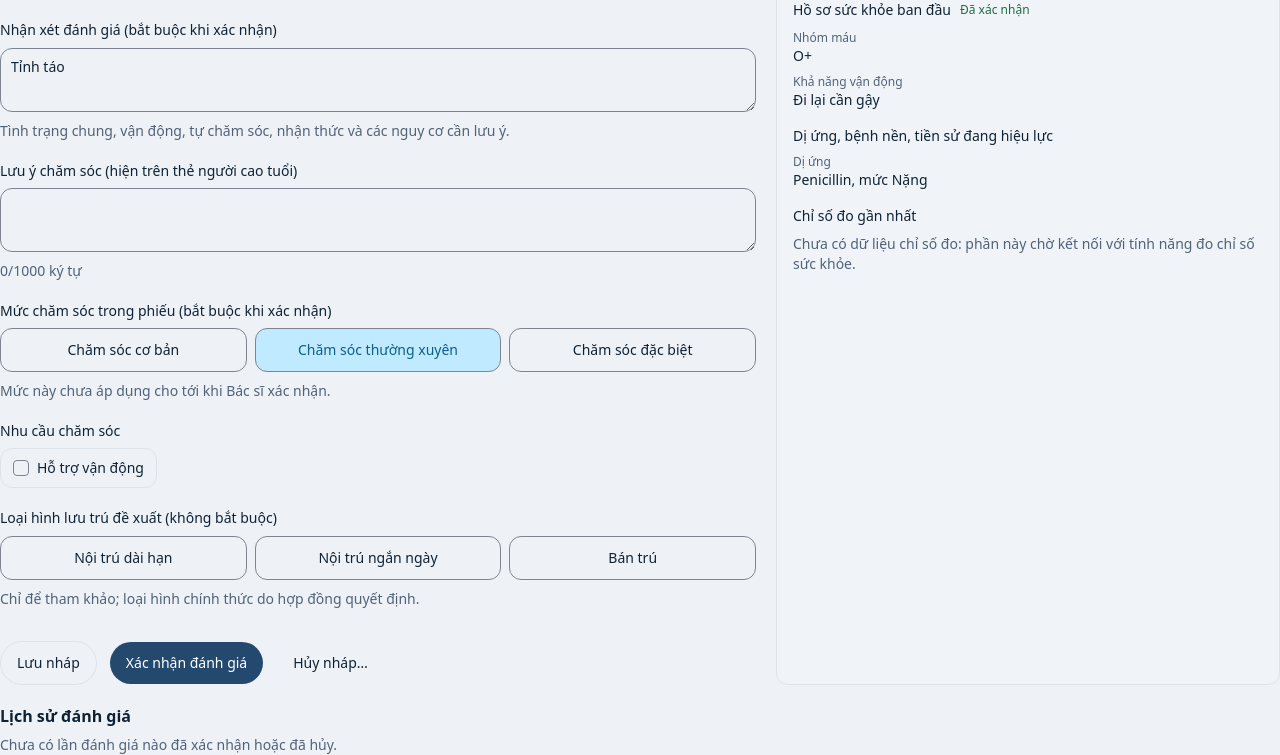
Test: AssessmentTab › Bác sĩ xác nhận hợp lệ: lưu nháp rồi xác nhận với ETag mới, hiện tác động
This screenshot has width=1280, height=755.
(page scrolled)
Click the button "Xác nhận đánh giá" at (186, 662), box top-left (109, 640), bottom-right (264, 684)
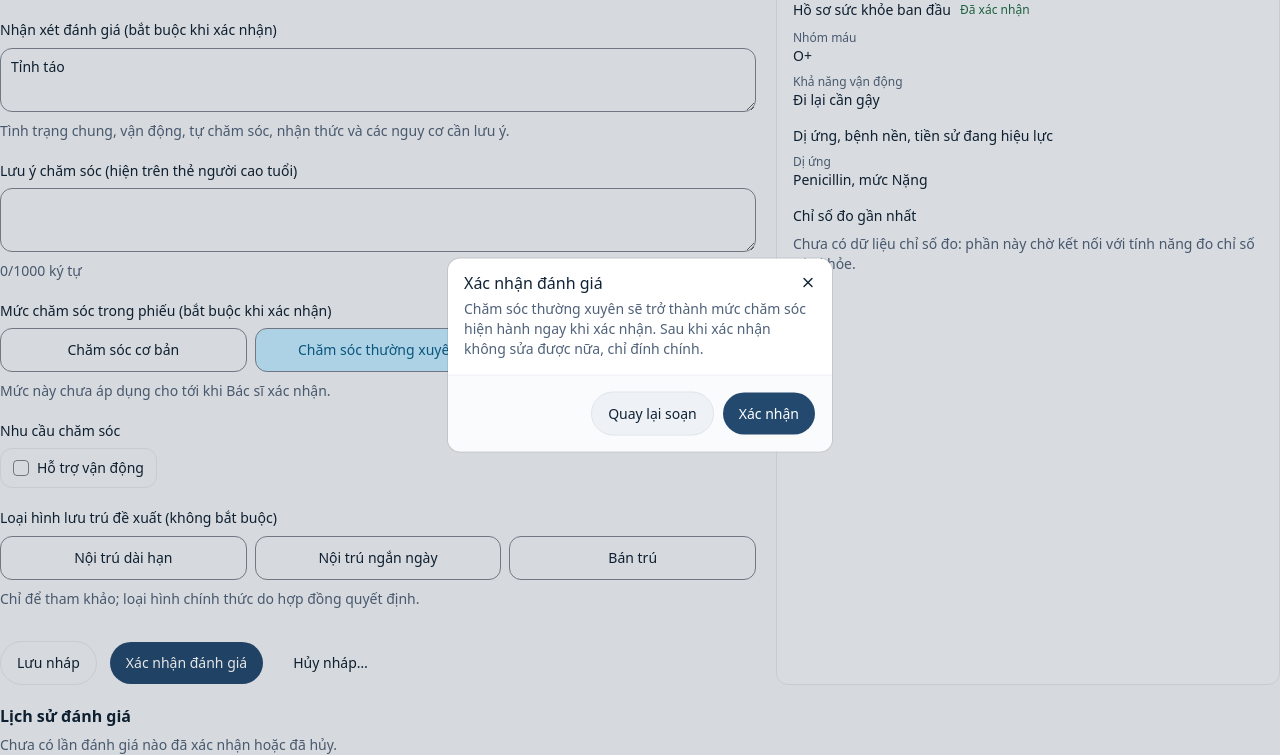
Click the button "Xác nhận" at (769, 414), box top-left (722, 392), bottom-right (816, 436)
(page scrolled)
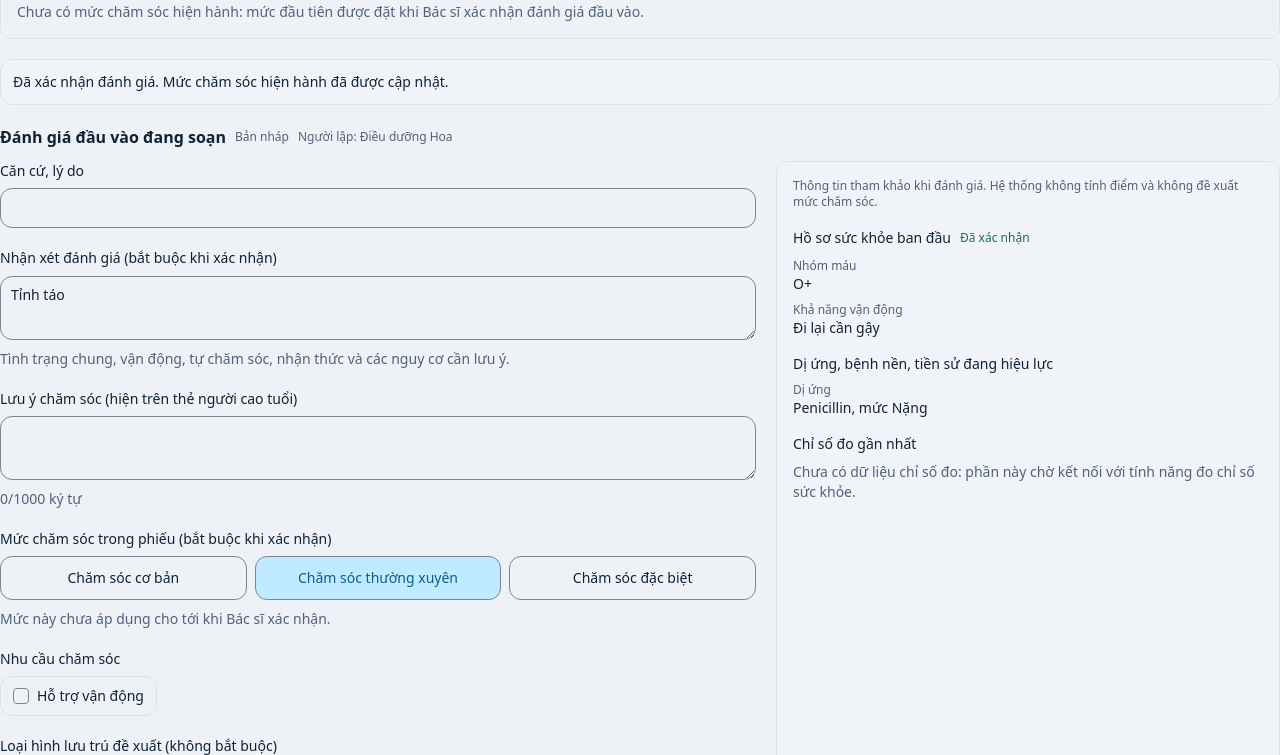
Now the text "Đã xác nhận đánh giá. Mức chăm sóc hiện hành đã được cập nhật." is shown, box top-left (0, 59), bottom-right (1279, 105)
